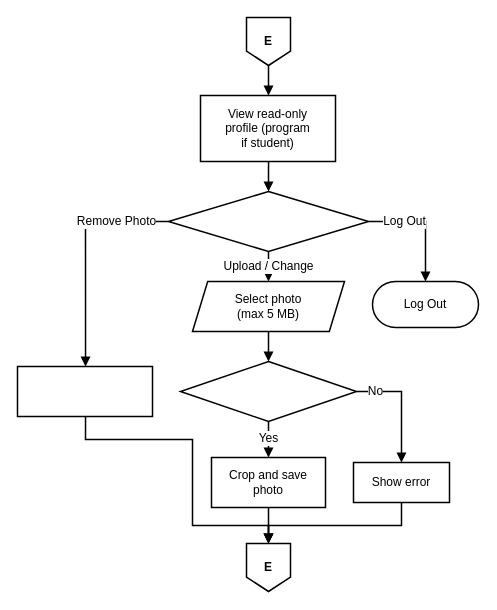
Image size: 497x610. Some labels were removed from this diagram. Here are the shapes that lost their labels. From the top down, the centre of each, then its label:
the point at 268,221: Select action?
the point at 84,391: Confirm & remove photo
the point at 268,391: Valid image?
